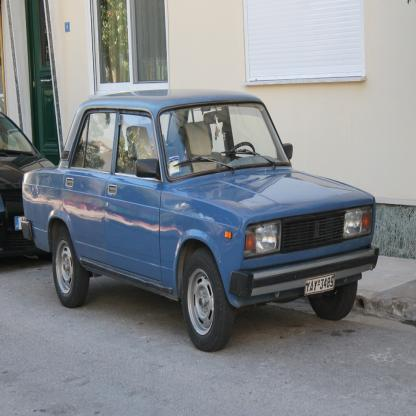Car: (21, 89, 380, 353), (1, 110, 56, 257)
